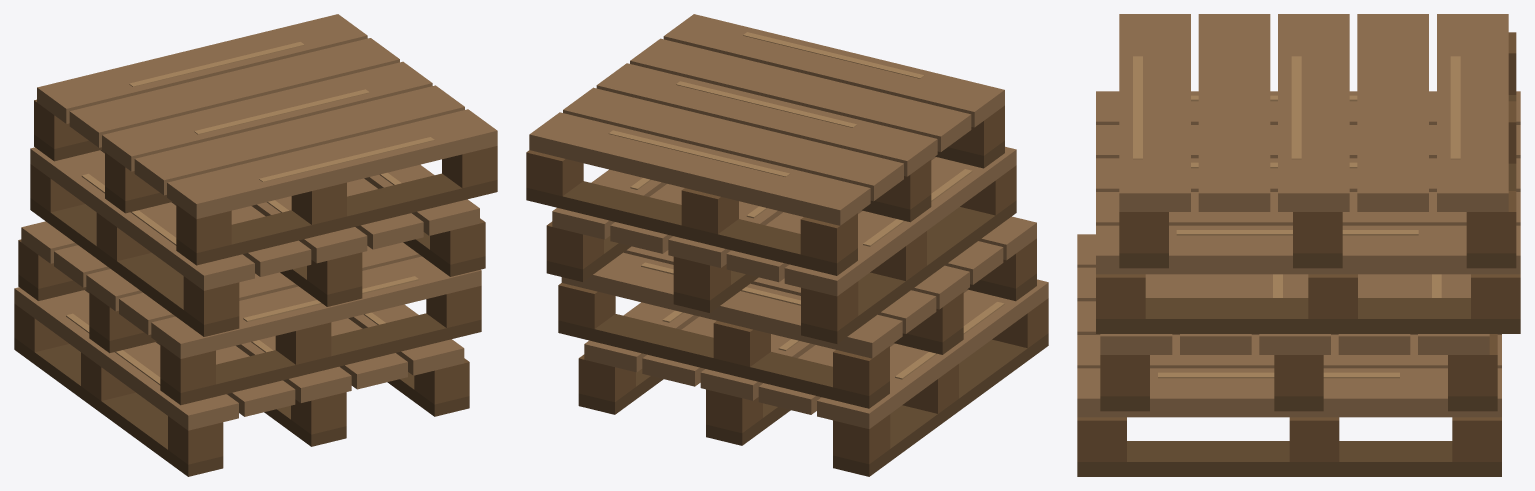
File: CMU3DTimberPalletStack.glb
The picture shows the model from 3 angles, left to right: view 1: azimuth 30°, elevation 25°; view 2: azimuth 150°, elevation 25°; view 3: azimuth 270°, elevation 25°; orthographic projection. The views are drawn at different scales.
Parts seen in each view (by area): view 1: top pallet board (×15), bottom runner (×12), spacer block (×20), top support board 5, top support board 2, top support board 4, top support board 1, top support board 3, board grain (×6); view 2: top pallet board (×15), bottom runner (×12), spacer block (×20), top support board 1, top support board 4, top support board 2, top support board 3, top support board 5, board grain (×5); view 3: top pallet board (×15), bottom runner (×8), spacer block (×14), top support board 4, top support board 2, top support board 3, top support board 1, top support board 5, board grain (×5).
Boxes of the visible parts, x1=… form: top pallet board (×15): x1=14, y1=147, x2=481, y2=430; bottom runner (×12): x1=14, y1=134, x2=497, y2=476; spacer block (×20): x1=14, y1=99, x2=497, y2=464; top support board 5: x1=167, y1=109, x2=497, y2=219; top support board 2: x1=69, y1=38, x2=399, y2=147; top support board 4: x1=134, y1=85, x2=464, y2=195; top support board 1: x1=37, y1=14, x2=367, y2=123; top support board 3: x1=102, y1=61, x2=432, y2=171; board grain (×6): x1=66, y1=42, x2=434, y2=385; top pallet board (×15): x1=552, y1=146, x2=1048, y2=428; bottom runner (×12): x1=526, y1=140, x2=1048, y2=476; spacer block (×20): x1=526, y1=105, x2=1048, y2=464; top support board 1: x1=529, y1=112, x2=870, y2=225; top support board 4: x1=630, y1=38, x2=971, y2=151; top support board 2: x1=563, y1=87, x2=903, y2=201; top support board 3: x1=596, y1=63, x2=937, y2=176; top support board 5: x1=663, y1=14, x2=1004, y2=127; board grain (×5): x1=608, y1=32, x2=1004, y2=379; top pallet board (×15): x1=1077, y1=91, x2=1520, y2=417; bottom runner (×8): x1=1077, y1=95, x2=1520, y2=476; spacer block (×14): x1=1077, y1=32, x2=1520, y2=461; top support board 4: x1=1198, y1=14, x2=1270, y2=211; top support board 2: x1=1357, y1=14, x2=1428, y2=211; top support board 3: x1=1278, y1=14, x2=1349, y2=211; top support board 1: x1=1437, y1=14, x2=1508, y2=211; top support board 5: x1=1119, y1=14, x2=1190, y2=211; board grain (×5): x1=1133, y1=56, x2=1460, y2=378.
Size of the model in its own units: 0.835 by 0.6225 by 0.804.
